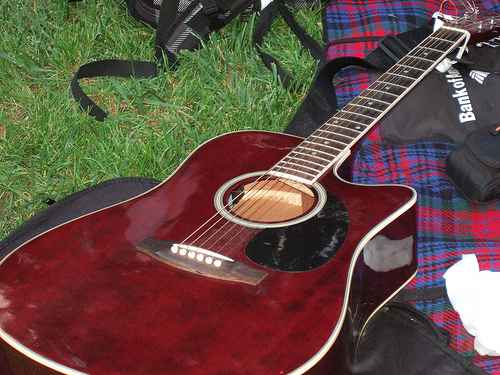guitar: (1, 11, 499, 375)
